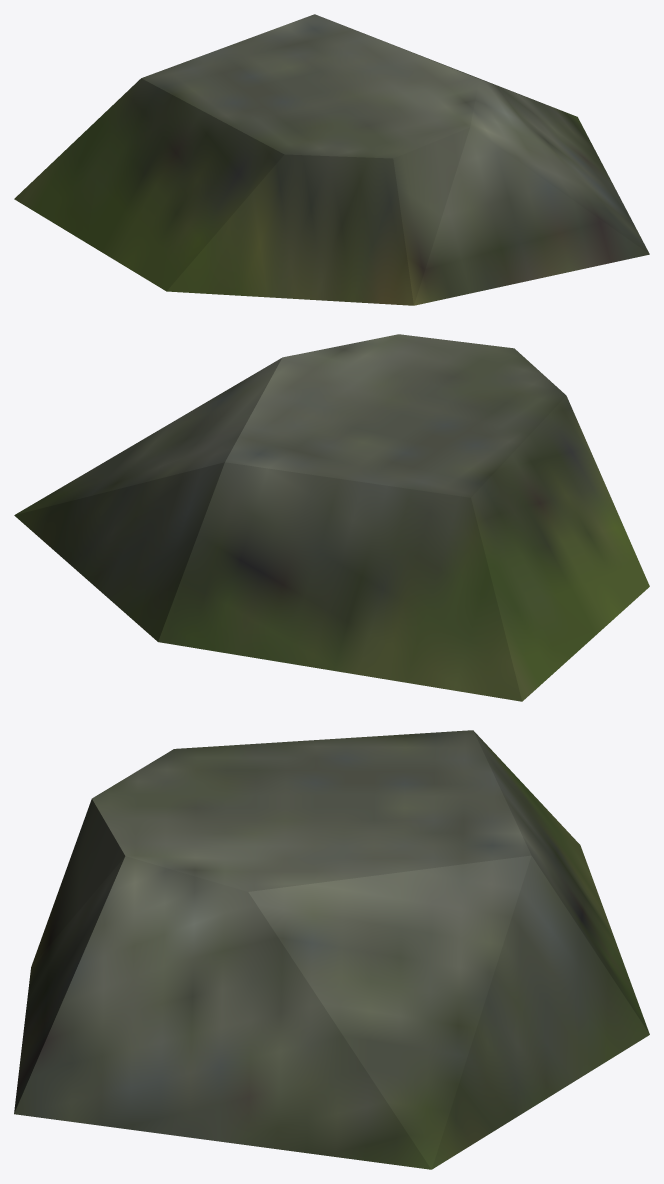
File: 7004_Item_wujian_8.FBX
The picture shows the model from 3 angles, top to bottom: view 1: azimuth 30°, elevation 25°; view 2: azimuth 150°, elevation 25°; view 3: azimuth 270°, elevation 25°; orthographic projection. The views are drawn at different scales.
Visible parts, largest first — view 1: 7004_Item_wujian_8; view 2: 7004_Item_wujian_8; view 3: 7004_Item_wujian_8.
Boxes of the visible parts, <box> form: 7004_Item_wujian_8: <box>14,14,649,305</box>; 7004_Item_wujian_8: <box>14,334,649,701</box>; 7004_Item_wujian_8: <box>14,730,649,1169</box>.
Bounding box in the file's own units: 69.52 × 57.55 × 17.
